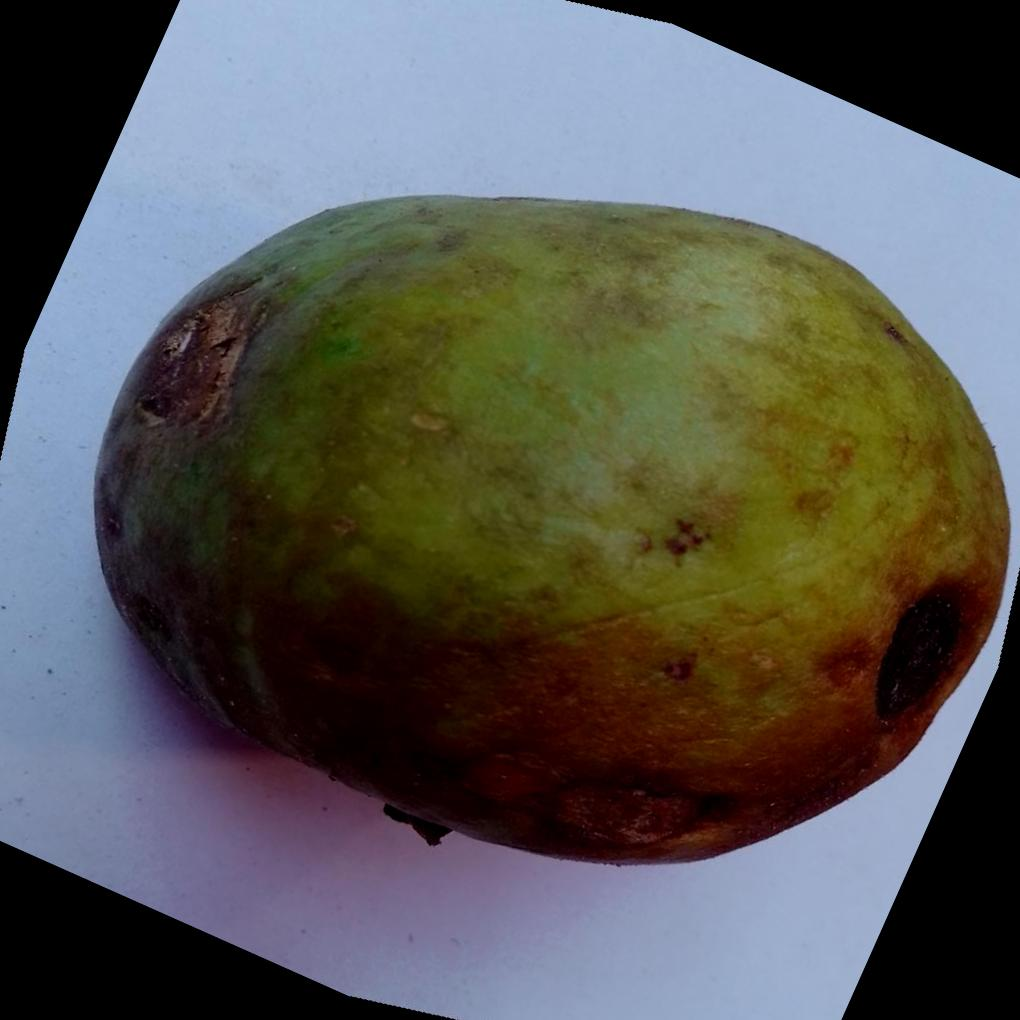FreshOrange: (89, 190, 1011, 866)
